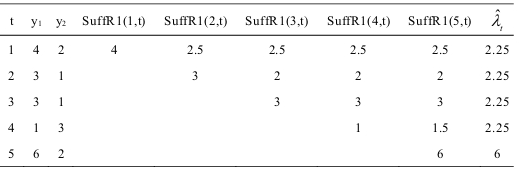column: (1, 1, 519, 34), (1, 58, 519, 88), (1, 140, 519, 168), (1, 112, 518, 140), (154, 1, 238, 169), (316, 1, 399, 169), (399, 1, 479, 168), (76, 1, 155, 168), (238, 1, 315, 169), (1, 35, 519, 59), (1, 89, 517, 112), (479, 3, 518, 168), (47, 3, 76, 166), (21, 1, 49, 167), (1, 1, 21, 169)
